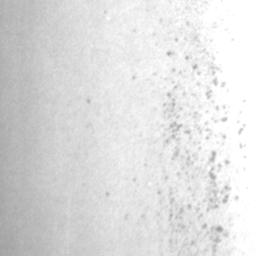Pitted surface: (162, 30, 227, 179), (157, 150, 238, 256), (166, 51, 175, 57)
